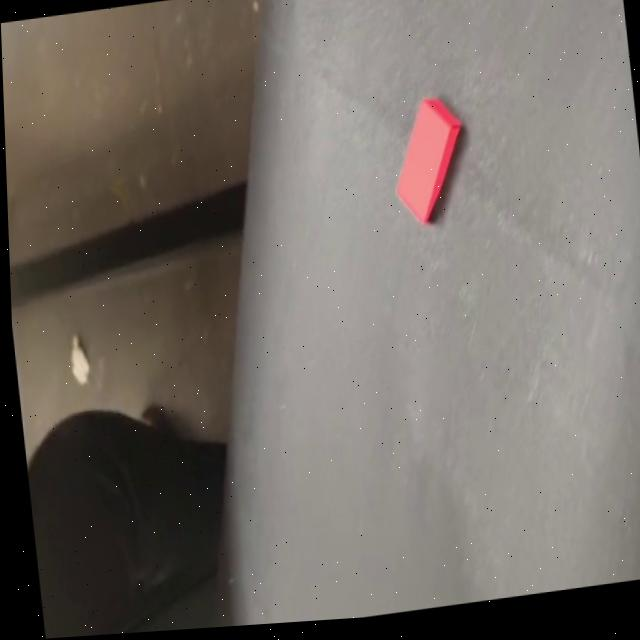red block: (384, 89, 472, 228)
